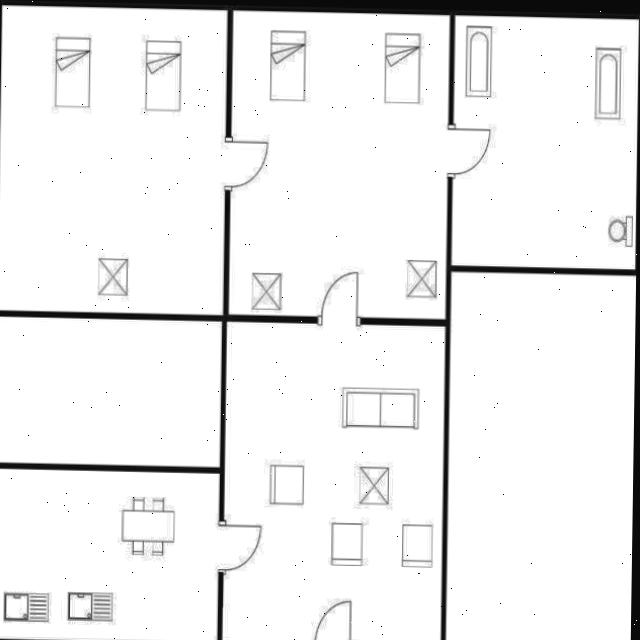room: (221, 322, 444, 640), (0, 5, 226, 315), (227, 11, 448, 320), (450, 17, 638, 268), (0, 469, 219, 640)
